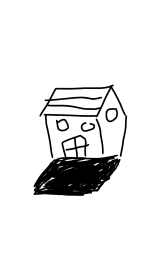door: (60, 134, 91, 160)
open_window: (104, 107, 121, 128), (54, 118, 73, 134), (79, 121, 96, 134)
roof: (33, 81, 138, 122)
shadow: (29, 156, 122, 200)
small_house: (1, 1, 161, 260)
wall: (43, 110, 106, 161)
